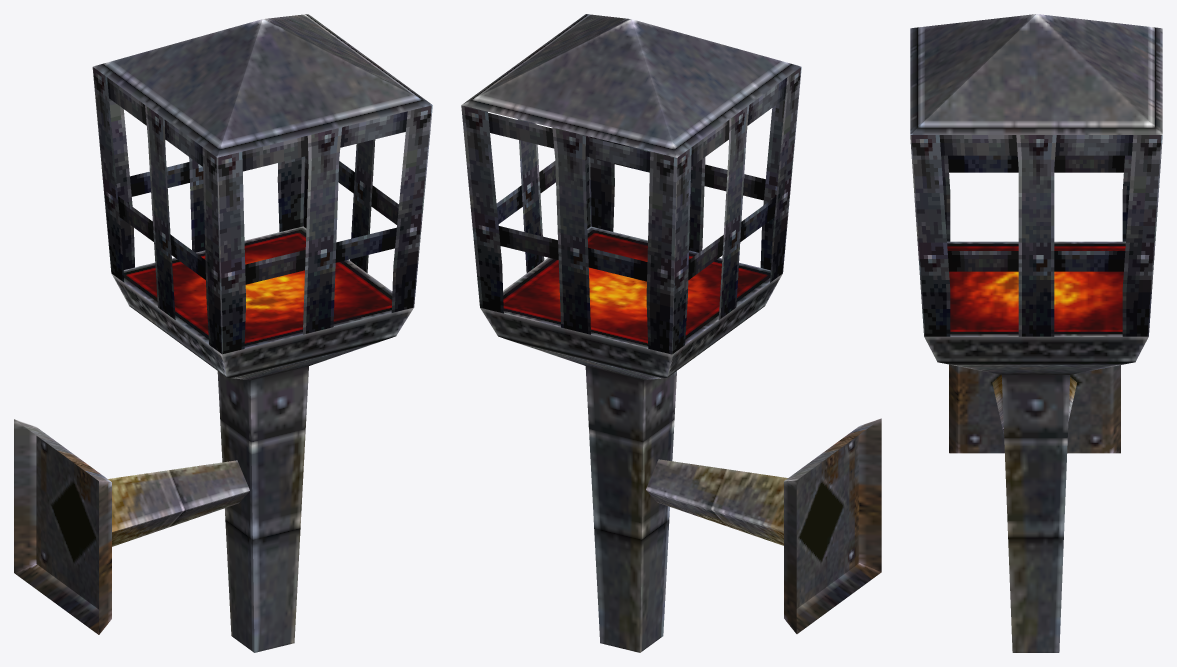
File: tn3_light02.glb
3 views of the same model, side by side, from view 1: azimuth 30°, elevation 25°; view 2: azimuth 150°, elevation 25°; view 3: azimuth 270°, elevation 25° (orthographic).
Visible parts, largest first — view 1: tn3_light02-col; view 2: tn3_light02-col; view 3: tn3_light02-col.
Part boxes in pixels (x1,y1,x2,y2): tn3_light02-col: (14, 14, 432, 652); tn3_light02-col: (461, 14, 881, 652); tn3_light02-col: (910, 14, 1162, 652).
Size of the model in its own units: 0.4414 by 0.8312 by 0.3025.
2 materials, 2 textured.
